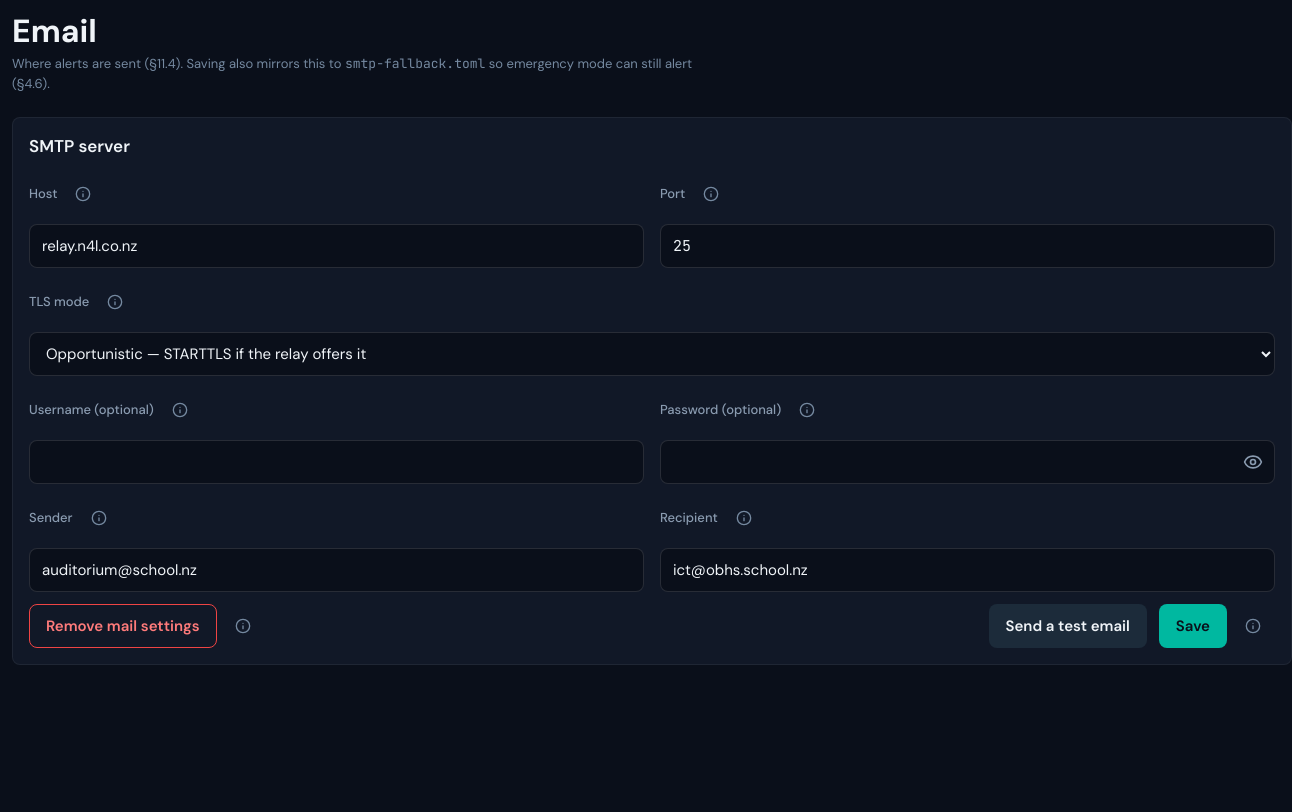
Test: EmailScreen — the test button reports inline what failed › reports success plainly
expect the field showing "relay.n4l.co.nz" is shown: met, box [29,224,644,268]
Click the button "Send a test email".
click(1068, 626)  # box [988,604,1147,648]
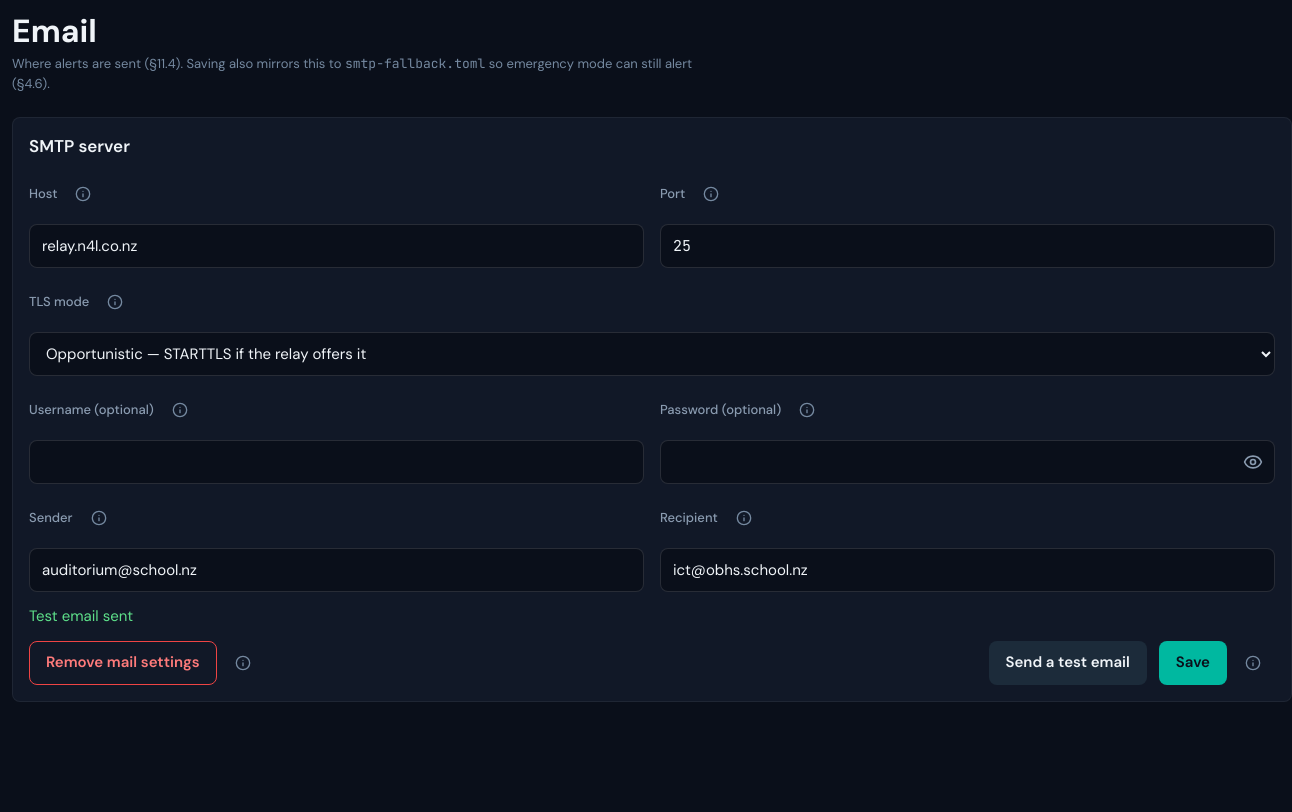
expect the text "Test email sent" is shown: met, box [29,606,133,626]
